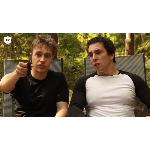Pisau: (20, 49, 36, 82)
